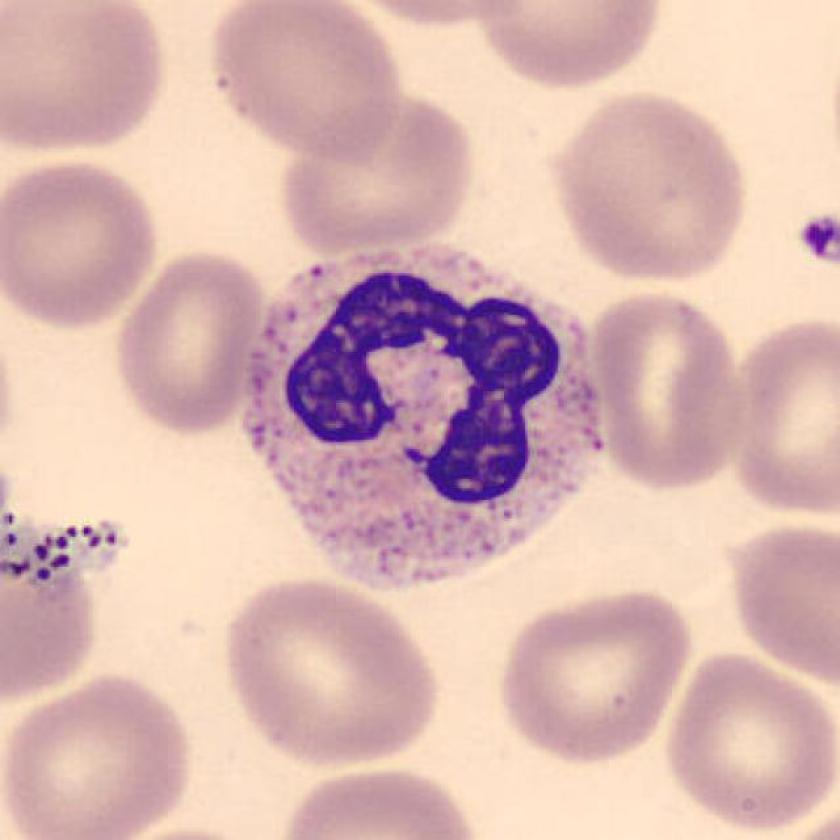neutrophil: (247, 246, 599, 593)
